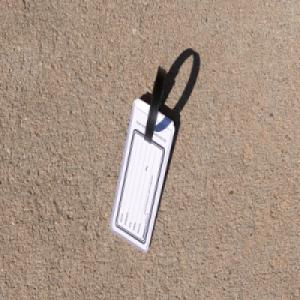LuggageTag: (108, 63, 175, 255)
